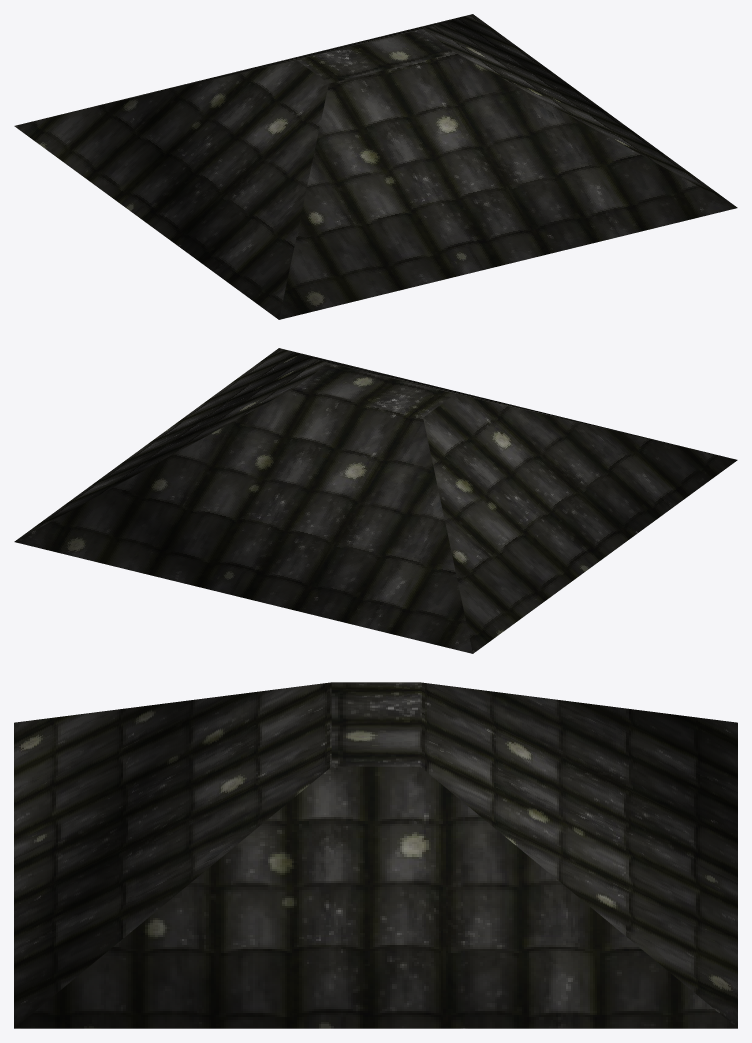
File: roof-3.glb
3 renders of one model, top to bottom at view 1: azimuth 30°, elevation 25°; view 2: azimuth 150°, elevation 25°; view 3: azimuth 270°, elevation 25°, orthographic. The views are drawn at different scales.
Visible parts, largest first — view 1: Roof_3; view 2: Roof_3; view 3: Roof_3.
Boxes of the visible parts, x1=… form: Roof_3: x1=14, y1=14, x2=737, y2=319; Roof_3: x1=14, y1=348, x2=737, y2=653; Roof_3: x1=14, y1=682, x2=737, y2=1028.
Bounding box in the file's own units: 5.35 × 1.23 × 5.35.
Materials: 1 (1 with a texture image).
